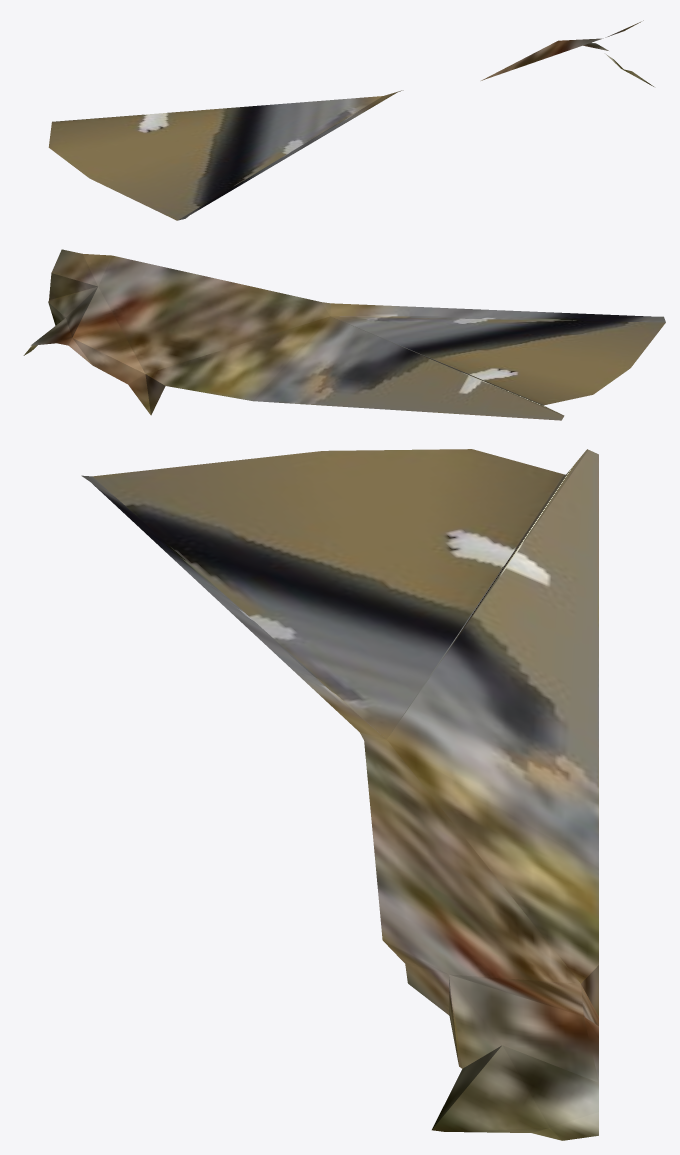
3 views of the same model, one above another, from view 1: azimuth 30°, elevation 25°; view 2: azimuth 150°, elevation 25°; view 3: azimuth 270°, elevation 25° (orthographic). The views are drawn at different scales.
Size of the model in its own units: 1.67 by 0.2865 by 0.686.
1 material, 1 textured.
